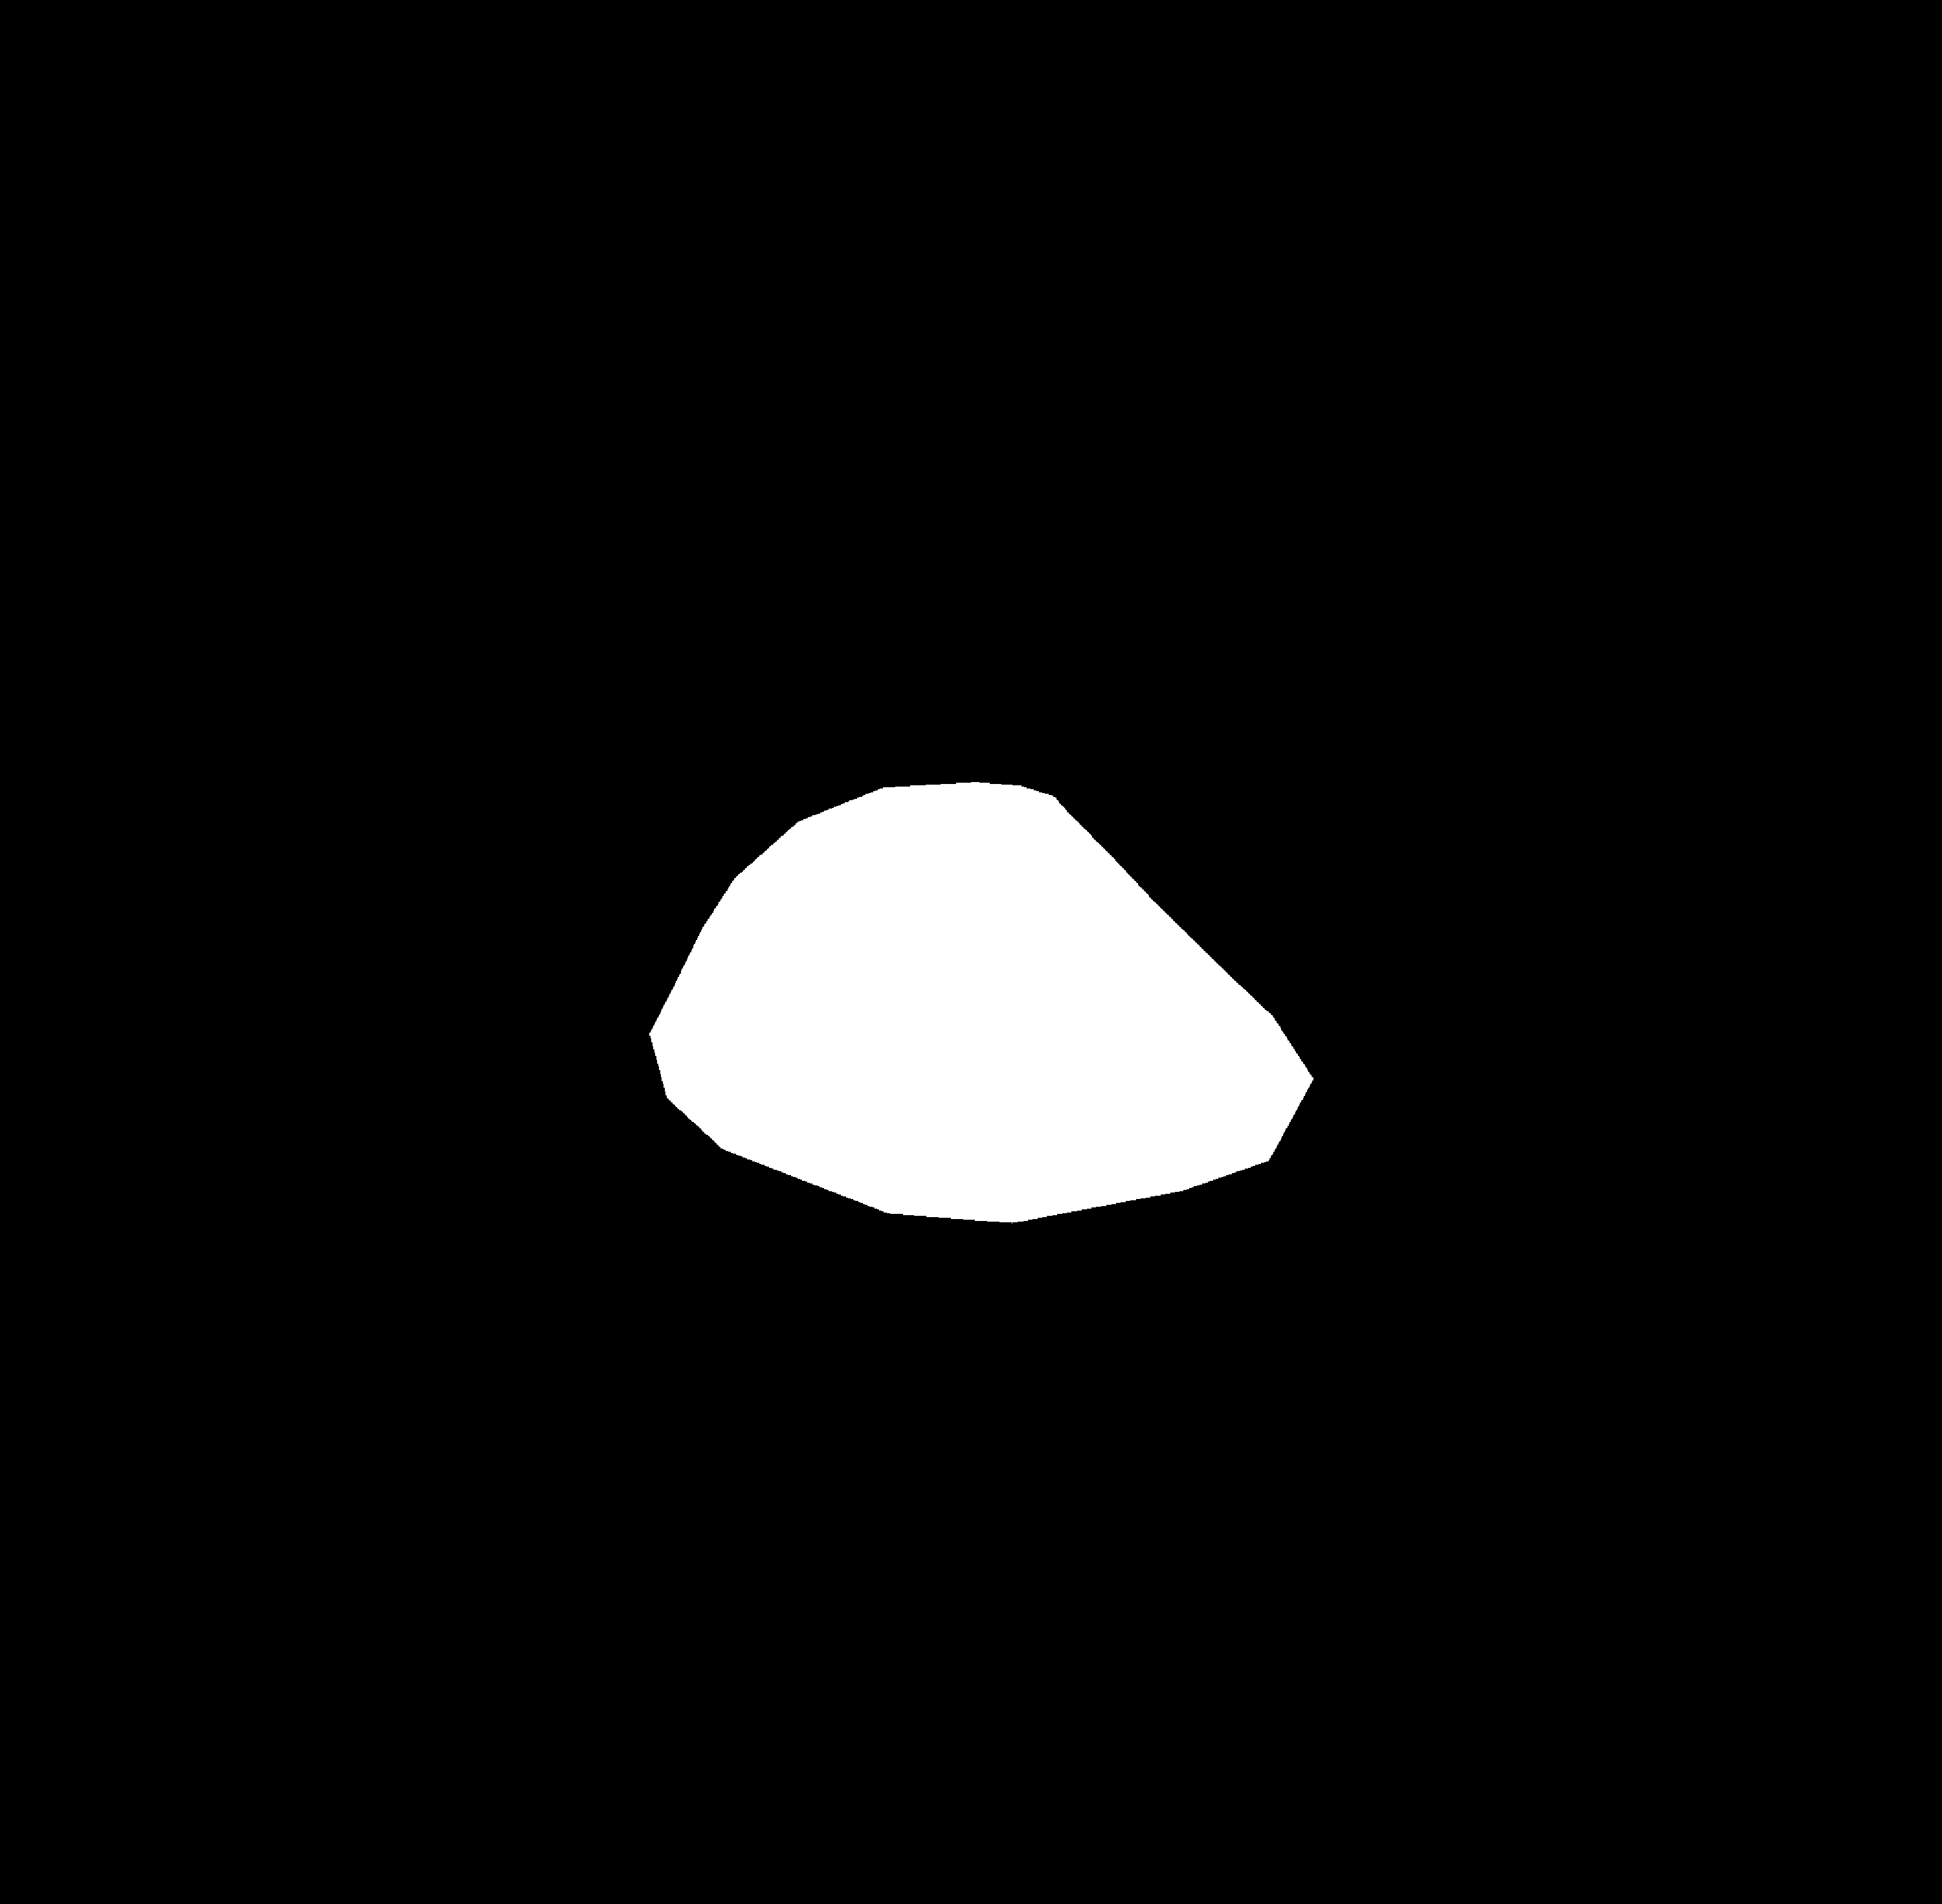heart: (642, 882, 1288, 1255)
left_lung: (270, 305, 804, 1289)
right_lung: (905, 310, 1435, 1268)
